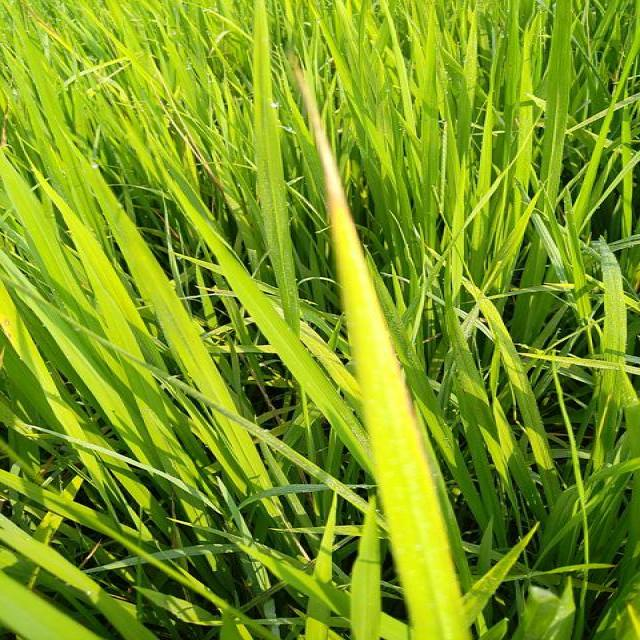Leaf Blight: (293, 68, 365, 343)
